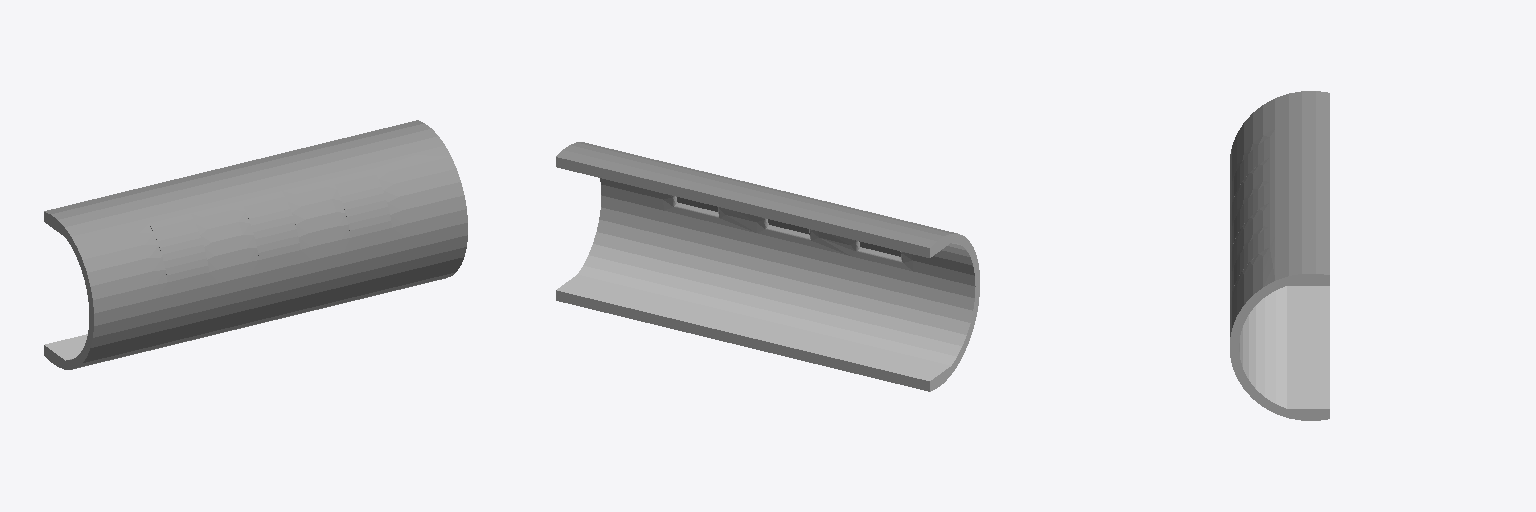
File: LinearTubeLowerWindow.obj
3 renders of one model, left to right at view 1: azimuth 30°, elevation 25°; view 2: azimuth 150°, elevation 25°; view 3: azimuth 270°, elevation 25°, orthographic.
Visible parts, largest first — view 1: LinearTubeLowerWindow, LinearTubeLowerWindow-Glass; view 2: LinearTubeLowerWindow, LinearTubeLowerWindow-Glass; view 3: LinearTubeLowerWindow, LinearTubeLowerWindow-Glass.
Boxes of the visible parts, x1,y1,x2,y2 form: LinearTubeLowerWindow: [44, 120, 467, 369]; LinearTubeLowerWindow-Glass: [149, 169, 391, 281]; LinearTubeLowerWindow: [556, 142, 979, 391]; LinearTubeLowerWindow-Glass: [677, 197, 900, 256]; LinearTubeLowerWindow: [1230, 91, 1329, 420]; LinearTubeLowerWindow-Glass: [1232, 138, 1269, 290].
Bounding box in the file's own units: 45 × 16.96 × 10.47.